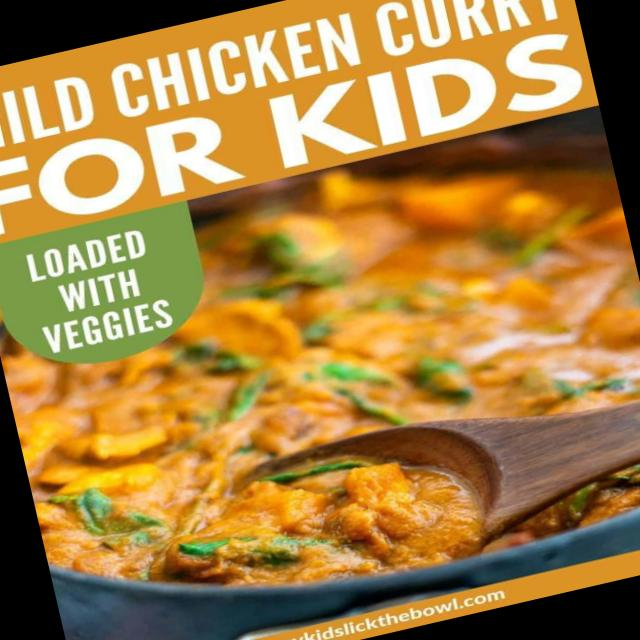chicken: (22, 174, 640, 635)
